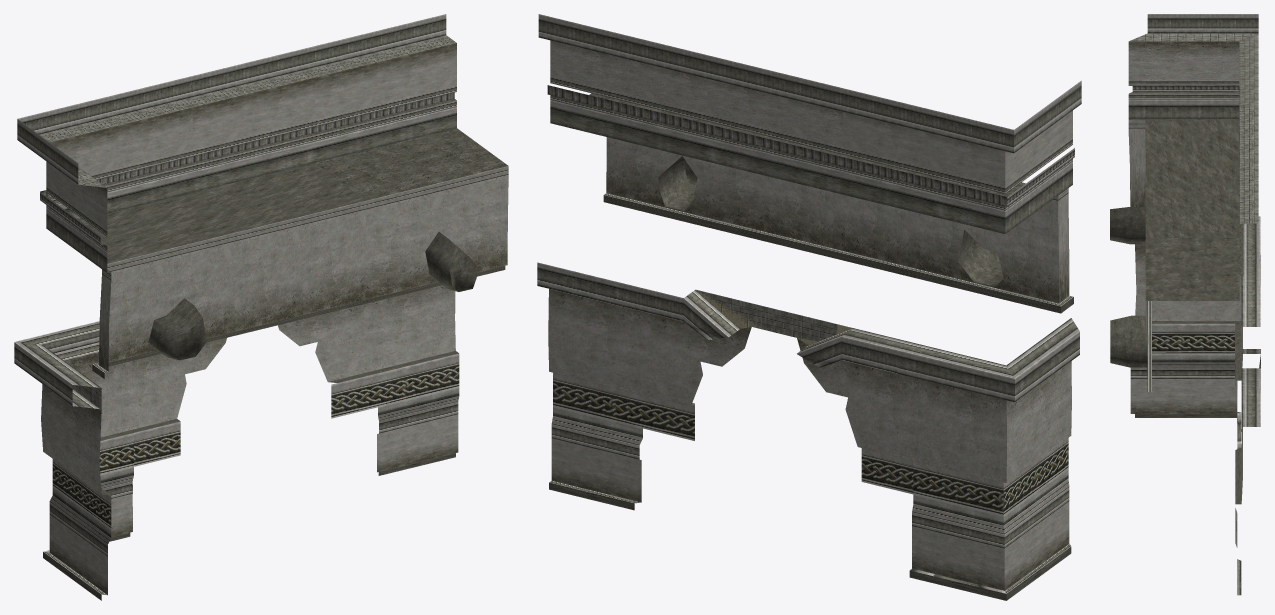
Rendered from DWARF_PALACE_MAINHALL_WALL01B.fbx.
3 views of the same model, side by side, from view 1: azimuth 30°, elevation 25°; view 2: azimuth 150°, elevation 25°; view 3: azimuth 270°, elevation 25° (orthographic). The views are drawn at different scales.
Parts seen in each view (by area): view 1: DWARF_PALACE_MAINHALL_WALL01B; view 2: DWARF_PALACE_MAINHALL_WALL01B; view 3: DWARF_PALACE_MAINHALL_WALL01B.
Part boxes in pixels (x1,y1,x2,y2): DWARF_PALACE_MAINHALL_WALL01B: (14, 14, 508, 600); DWARF_PALACE_MAINHALL_WALL01B: (537, 14, 1081, 600); DWARF_PALACE_MAINHALL_WALL01B: (1110, 14, 1260, 595).
Size of the model in its own units: 212005 by 205000 by 70632.
10 materials, 10 textured.
